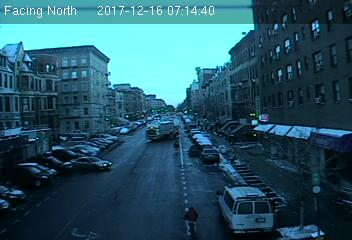bicycle: (182, 206, 200, 239)
car: (201, 147, 220, 163)
police: (217, 181, 272, 232)
truck: (144, 119, 176, 138)
